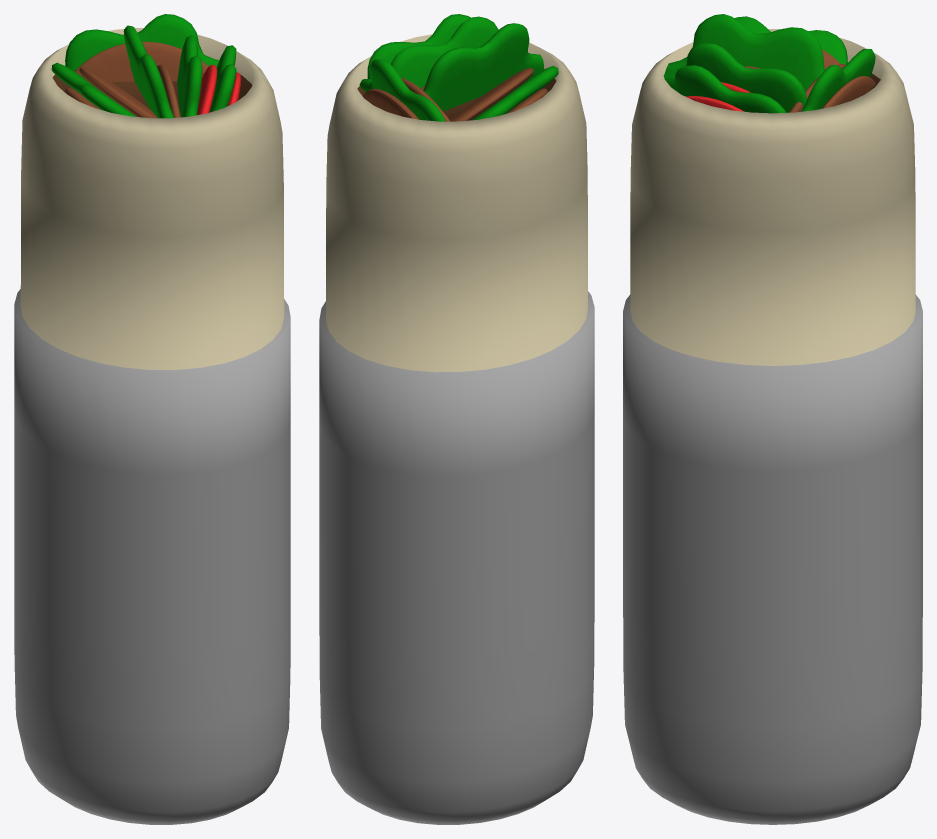
Rendered from Comida_VR06.fbx.
3 views of the same model, side by side, from view 1: azimuth 30°, elevation 25°; view 2: azimuth 150°, elevation 25°; view 3: azimuth 270°, elevation 25° (orthographic).
Visible parts, largest first — view 1: Kebab; view 2: Kebab; view 3: Kebab.
Boxes of the visible parts, x1,y1,x2,y2 form: Kebab: [14, 14, 290, 824]; Kebab: [319, 14, 594, 824]; Kebab: [623, 14, 922, 824].
Size of the model in its own units: 95.23 by 293 by 105.
